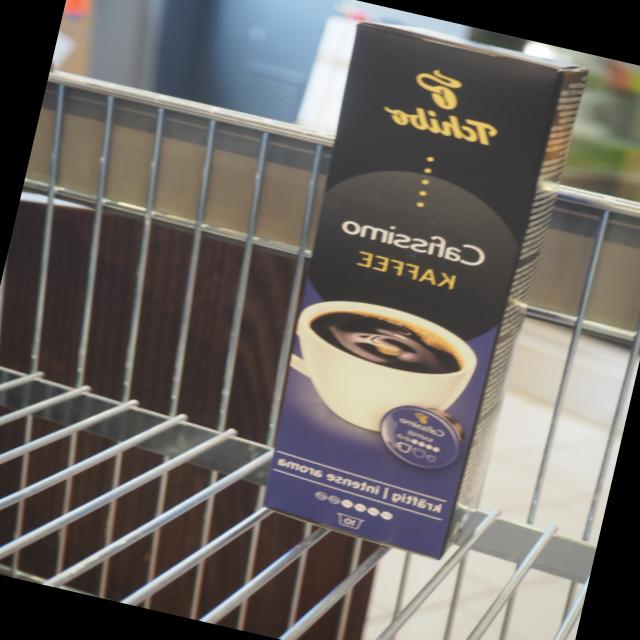Simo Kaffee Kraft: (236, 16, 569, 567)
